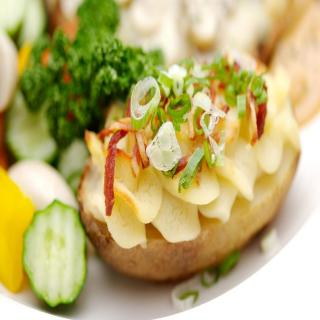Cucumber: (22, 203, 90, 309), (5, 87, 58, 160), (56, 141, 90, 187)
